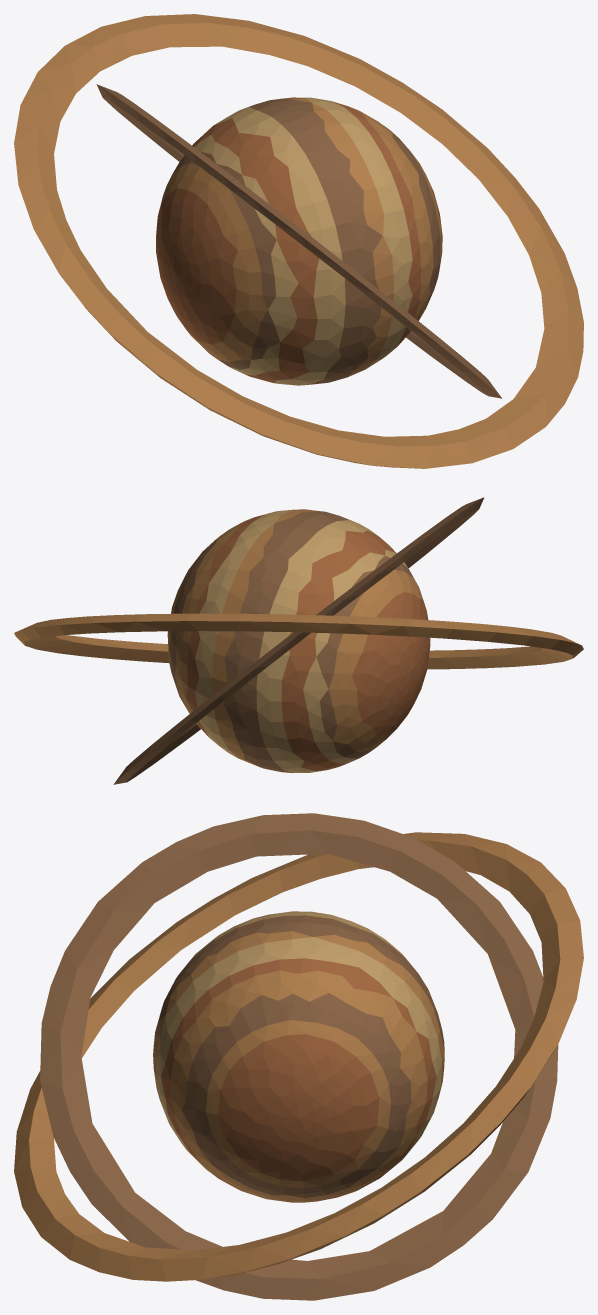
Rendered from saturn.glb.
The picture shows the model from 3 angles, top to bottom: view 1: azimuth 30°, elevation 25°; view 2: azimuth 150°, elevation 25°; view 3: azimuth 270°, elevation 25°; orthographic projection. The views are drawn at different scales.
Visible parts, largest first — view 1: saturn; view 2: saturn; view 3: saturn.
Part boxes in pixels (x1,y1,x2,y2): saturn: [14, 14, 583, 468]; saturn: [14, 497, 583, 784]; saturn: [14, 813, 583, 1300].
Size of the model in its own units: 1.25 by 0.7455 by 1.16.
